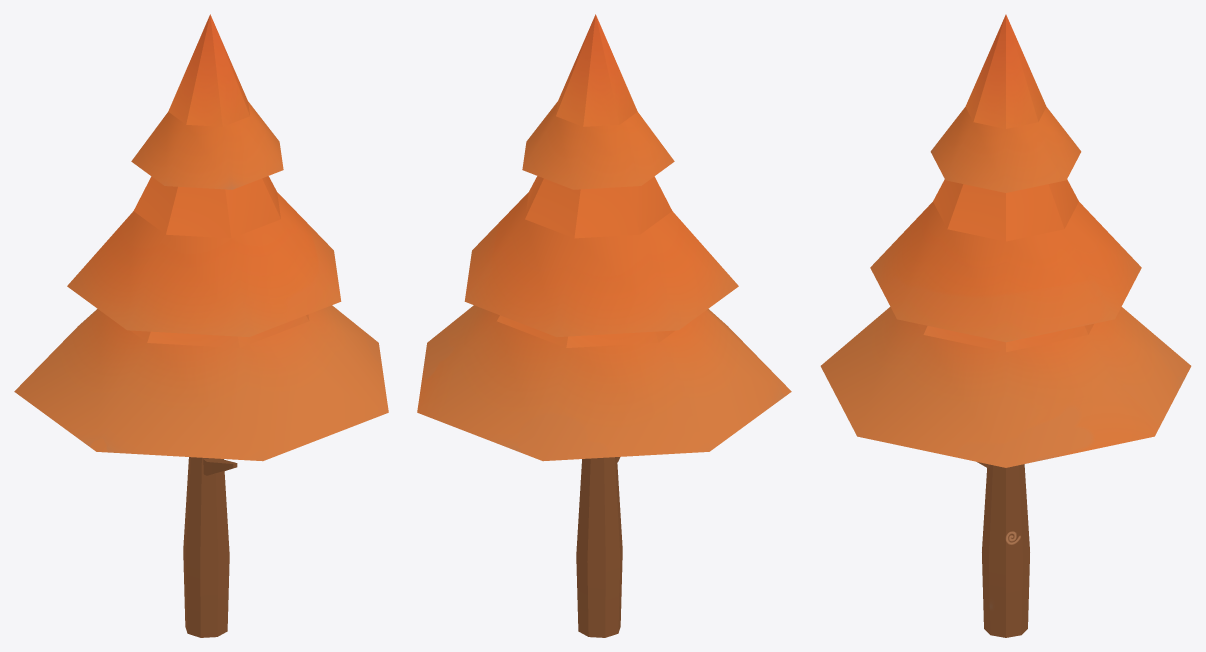
The model's file is tree.glb.
3 renders of one model, left to right at view 1: azimuth 30°, elevation 25°; view 2: azimuth 150°, elevation 25°; view 3: azimuth 270°, elevation 25°, orthographic.
Visible parts, largest first — view 1: Object_3; view 2: Object_3; view 3: Object_3.
Boxes of the visible parts, <box> form: Object_3: <box>14,14,388,637</box>; Object_3: <box>417,14,791,637</box>; Object_3: <box>820,14,1191,637</box>.
Bounding box in the file's own units: 1008 × 1828 × 997.
1 material, 1 textured.
